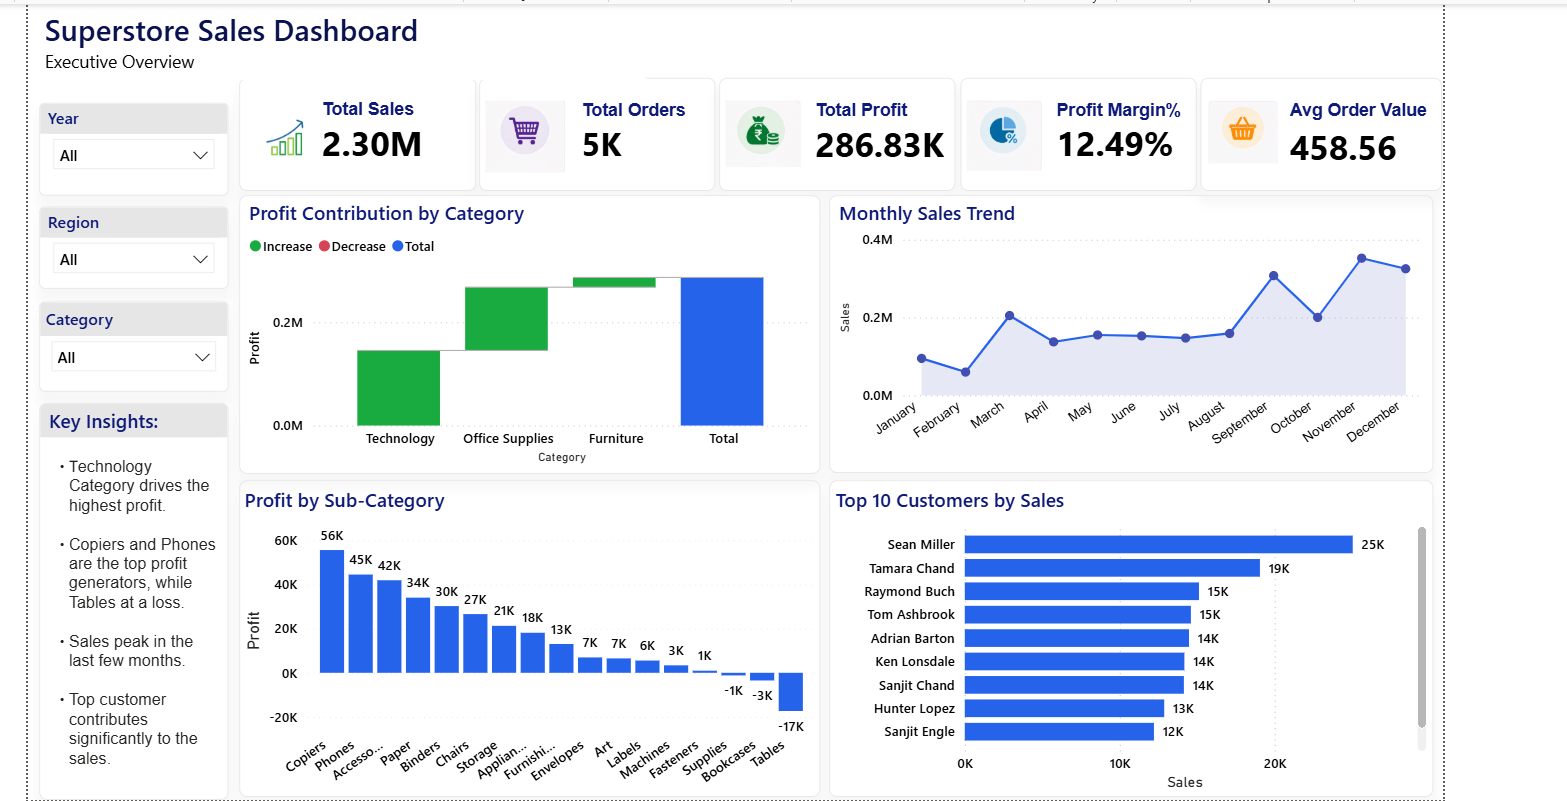

What the dashboard file says about the page in this screenshot:
{"tool":"powerbi","page":{"name":"Page 1","canvas":[1280,720],"ordinal":0},"visuals":[{"type":"cardVisual","title":"Total Posts","fields":{"Data":["VW_Sales_Summary.Total Sales"]},"box":[191.1,66.3,214,102],"z":0},{"type":"cardVisual","title":"Total Posts","fields":{"Data":["VW_Sales_Summary.Total Orders"]},"box":[408.5,66.3,214,102.3],"z":1000},{"type":"textbox","box":[10.5,0,548.8,68.6],"z":2000},{"type":"cardVisual","title":"Total Posts","fields":{"Data":["VW_Sales_Summary.Total Profit"]},"box":[625.8,66.3,214,102.3],"z":3000},{"type":"cardVisual","title":"Total Posts","fields":{"Data":["VW_Sales_Summary.Profit Margin %"]},"box":[843.1,66.3,214,102.3],"z":4000},{"type":"lineChart","title":"Monthly Sales Trend","fields":{"Y":["VW_Sales_Summary.Total Sales"],"Category":["VW_Sales_Summary.Order_Date.Variation.Date Hierarchy.Month"]},"box":[724.4,173.3,546.5,251.2],"z":5000},{"type":"slicer","title":"Year","fields":{"Values":["VW_Sales_Summary.Order_Date.Variation.Date Hierarchy.Year"]},"box":[10.5,89.5,170.9,83.7],"z":6000},{"type":"slicer","title":"Region","fields":{"Values":["VW_Sales_Summary.Region"]},"box":[10.5,183.7,170.9,74.4],"z":7000},{"type":"slicer","title":"Category","fields":{"Values":["VW_Sales_Summary.Category"]},"box":[10.5,268.6,170.9,81.4],"z":8000},{"type":"cardVisual","title":"Total Posts","fields":{"Data":["VW_Sales_Summary.Avg Order Value"]},"box":[1060.5,66.3,218.6,102.3],"z":9000},{"type":"clusteredColumnChart","title":" Profit by Sub-Category","fields":{"Category":["VW_Sales_Summary.Sub_Category"],"Y":["VW_Sales_Summary.Total Profit"]},"box":[190.7,430.2,525.6,286],"z":10000},{"type":"barChart","title":"Top 10 Customers by Sales","fields":{"Category":["VW_Sales_Summary.Customer_Name"],"Y":["VW_Sales_Summary.Total Sales"]},"box":[724.4,430.2,546.5,286],"z":11000},{"type":"waterfallChart","title":"Profit Contribution by Category","fields":{"Category":["VW_Sales_Summary.Category"],"Y":["Sum(VW_Sales_Summary.Profit)"]},"box":[190.7,173.3,525.6,252.3],"z":12000},{"type":"textbox","title":"Key Insights:","box":[10.5,360.5,170.9,359.3],"z":13000}]}

Visuals, with their boxes on the page's 1280x720 design canvas (x1, y1, x2, y2). These are canvas units, not pixel positions in the 1567x801 screenshot, which may show the page scaled, cropped or inside an application window:
"Total Posts" cardVisual: {"left": 191, "top": 66, "right": 405, "bottom": 168}
"Total Posts" cardVisual: {"left": 408, "top": 66, "right": 622, "bottom": 169}
textbox: {"left": 10, "top": 0, "right": 559, "bottom": 69}
"Total Posts" cardVisual: {"left": 626, "top": 66, "right": 840, "bottom": 169}
"Total Posts" cardVisual: {"left": 843, "top": 66, "right": 1057, "bottom": 169}
"Monthly Sales Trend" lineChart: {"left": 724, "top": 173, "right": 1271, "bottom": 424}
"Year" slicer: {"left": 10, "top": 90, "right": 181, "bottom": 173}
"Region" slicer: {"left": 10, "top": 184, "right": 181, "bottom": 258}
"Category" slicer: {"left": 10, "top": 269, "right": 181, "bottom": 350}
"Total Posts" cardVisual: {"left": 1060, "top": 66, "right": 1279, "bottom": 169}
" Profit by Sub-Category" clusteredColumnChart: {"left": 191, "top": 430, "right": 716, "bottom": 716}
"Top 10 Customers by Sales" barChart: {"left": 724, "top": 430, "right": 1271, "bottom": 716}
"Profit Contribution by Category" waterfallChart: {"left": 191, "top": 173, "right": 716, "bottom": 426}
"Key Insights:" textbox: {"left": 10, "top": 360, "right": 181, "bottom": 720}
